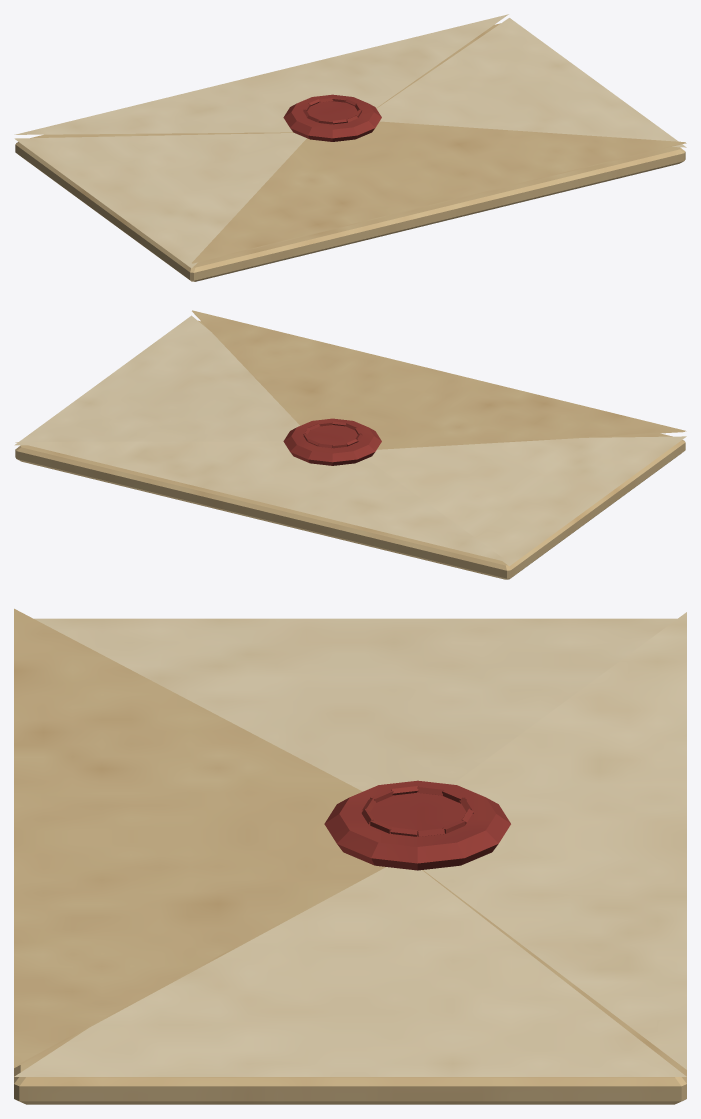
File: Envelope_RedSeal.obj
3 views of the same model, one above another, from view 1: azimuth 30°, elevation 25°; view 2: azimuth 150°, elevation 25°; view 3: azimuth 270°, elevation 25° (orthographic). The views are drawn at different scales.
Parts seen in each view (by area): view 1: Envelope_RedSeal_Mesh; view 2: Envelope_RedSeal_Mesh; view 3: Envelope_RedSeal_Mesh.
Part boxes in pixels (bbox=[...]): Envelope_RedSeal_Mesh: bbox=[14, 14, 686, 281]; Envelope_RedSeal_Mesh: bbox=[14, 310, 686, 579]; Envelope_RedSeal_Mesh: bbox=[14, 608, 686, 1104].
Bounding box in the file's own units: 0.29 × 0.0206 × 0.18.
Materials: 3 (3 with a texture image).
